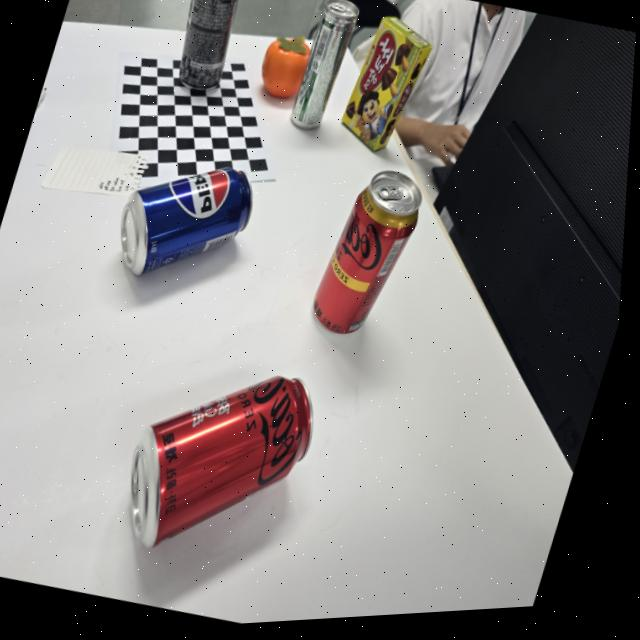can_coke_decaf: (310, 168, 422, 335)
can_coke_zero: (126, 372, 314, 547)
can_pepsi: (119, 166, 252, 277)
